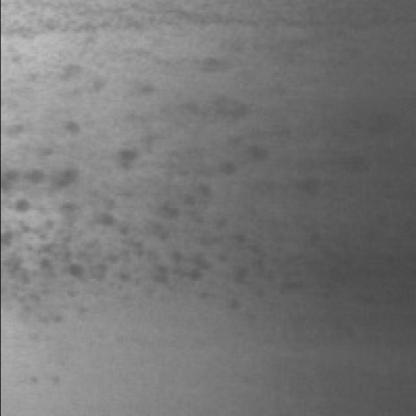pitted_surface: (4, 65, 304, 318)
